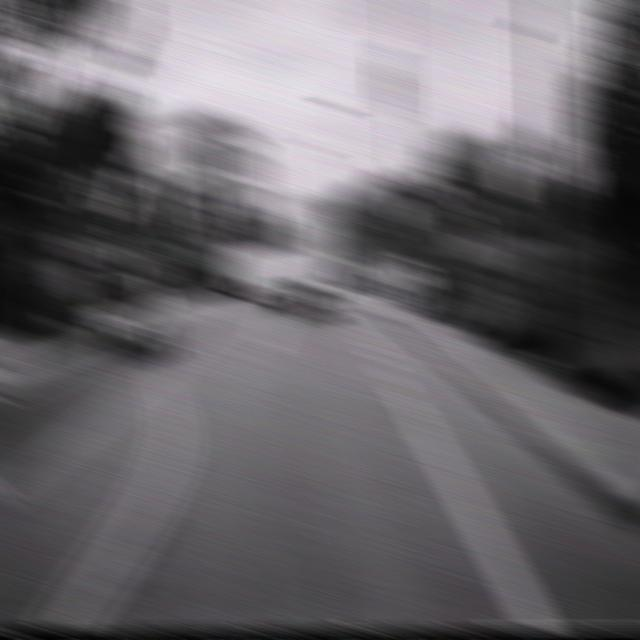stop_sign: (388, 192, 418, 228)
